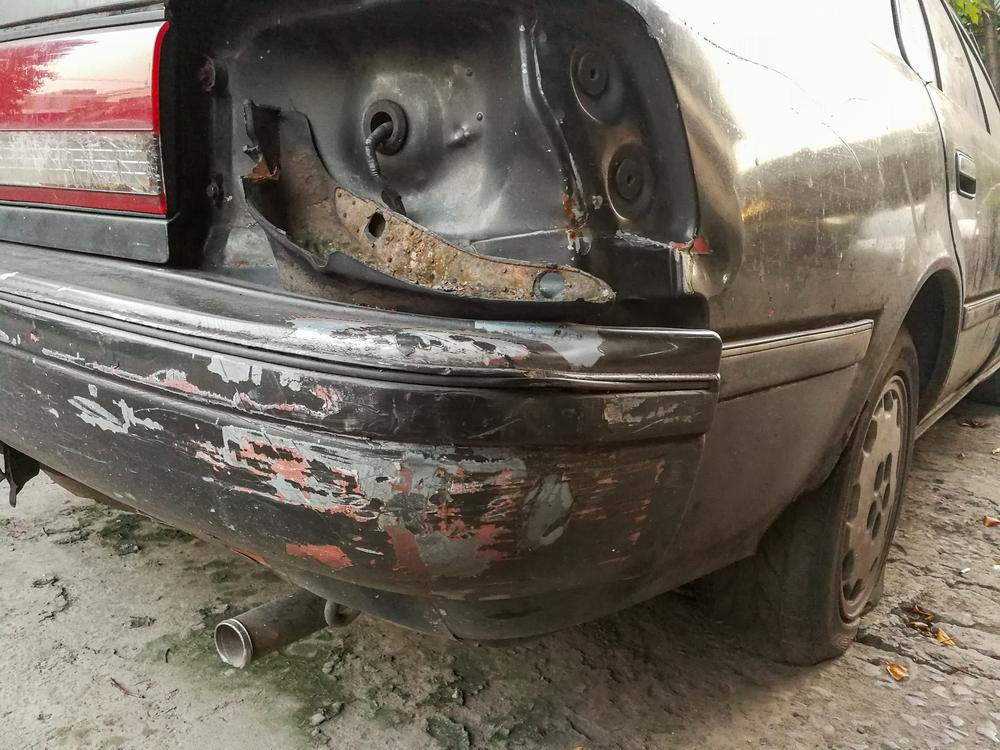scratch: (0, 301, 688, 594)
tire flat: (715, 324, 918, 664)
